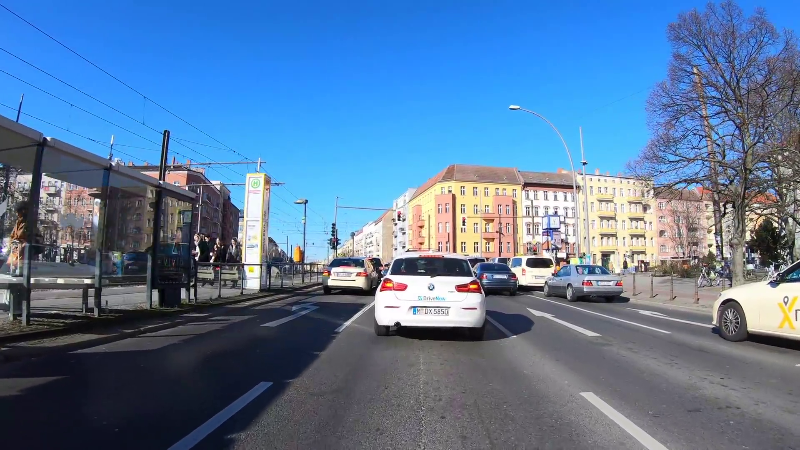Plate: (410, 304, 451, 316), (334, 271, 355, 278), (595, 280, 613, 286), (535, 272, 549, 279), (492, 273, 508, 279)
